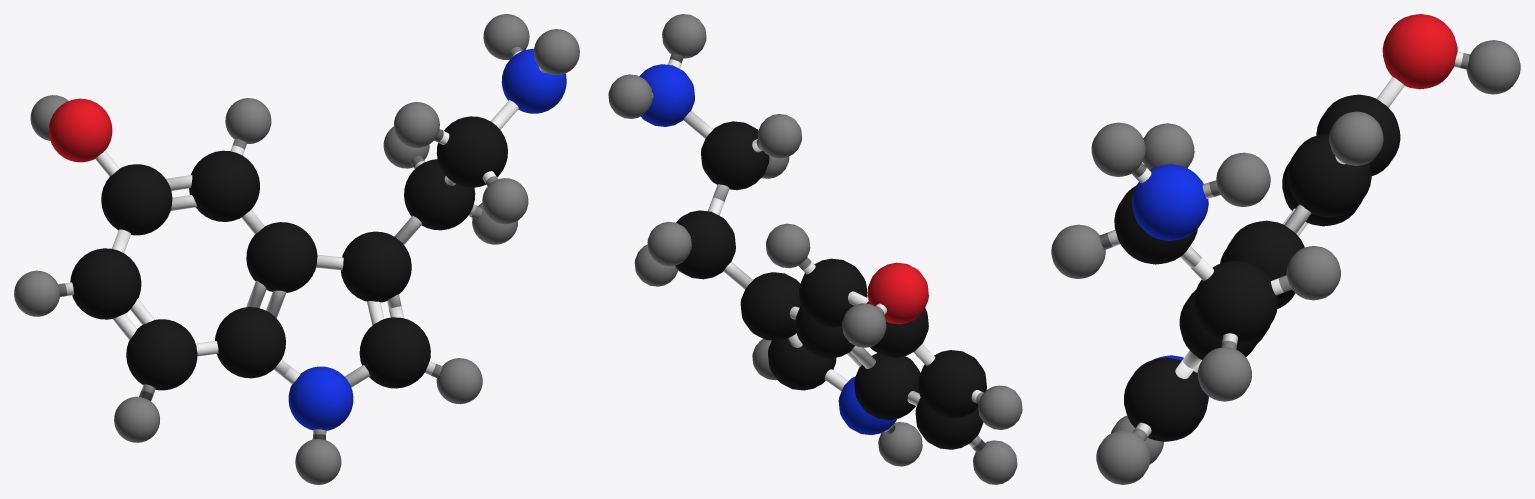
File: Serotonin.gltf
The picture shows the model from 3 angles, left to right: view 1: azimuth 30°, elevation 25°; view 2: azimuth 150°, elevation 25°; view 3: azimuth 270°, elevation 25°; orthographic projection. The views are drawn at different scales.
Parts seen in each view (by area): view 1: Serotonin; view 2: Serotonin; view 3: Serotonin.
Boxes of the visible parts, <box> form: Serotonin: <box>14,14,579,484</box>; Serotonin: <box>608,14,1022,484</box>; Serotonin: <box>1051,14,1520,484</box>.
Size of the model in its own units: 8.28 by 6.74 by 6.06.
